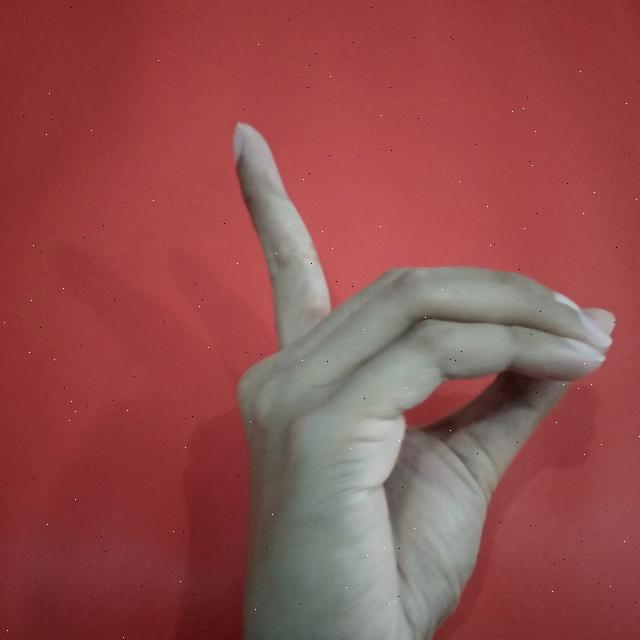D: (232, 119, 616, 640)
